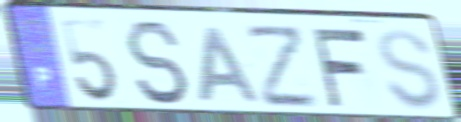5: (57, 16, 123, 107)
A: (196, 24, 263, 105)
F: (307, 25, 369, 109)
S: (121, 18, 193, 108), (376, 26, 444, 113)
Z: (244, 24, 322, 110)
